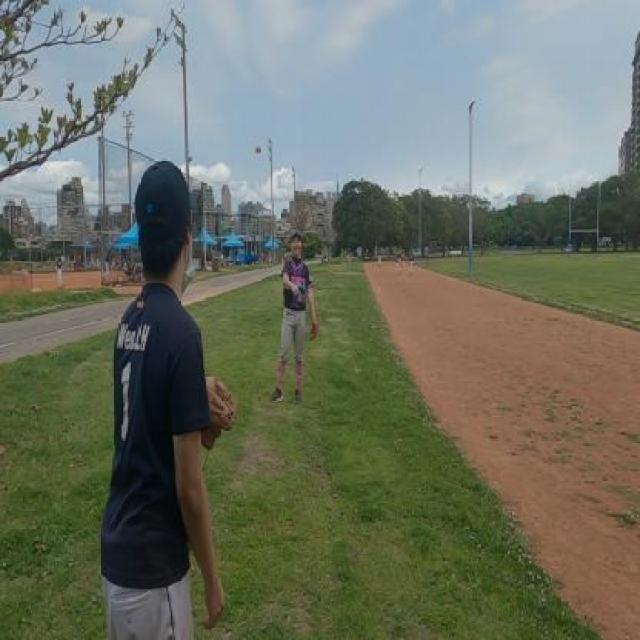baseball: (255, 144, 260, 154)
